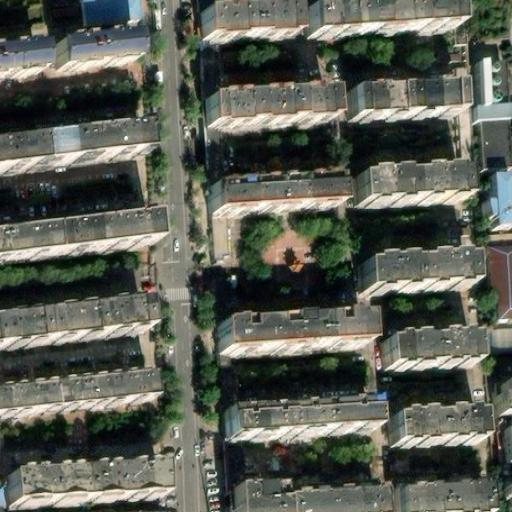building: (0, 209, 150, 255), (0, 292, 143, 339), (0, 361, 146, 405), (1, 458, 161, 498), (0, 121, 139, 166), (307, 0, 454, 39), (220, 401, 364, 440), (214, 315, 357, 352), (206, 174, 332, 214), (199, 92, 326, 129), (352, 168, 461, 206), (355, 256, 466, 293), (347, 81, 456, 118), (383, 408, 474, 445), (378, 330, 471, 366), (196, 7, 290, 40), (223, 491, 366, 512), (48, 26, 129, 62), (483, 248, 512, 348), (386, 482, 477, 512), (472, 62, 507, 128), (482, 181, 512, 239), (75, 0, 130, 30), (476, 126, 509, 172), (272, 485, 365, 499), (0, 38, 37, 70), (501, 417, 512, 463), (500, 387, 512, 418)
